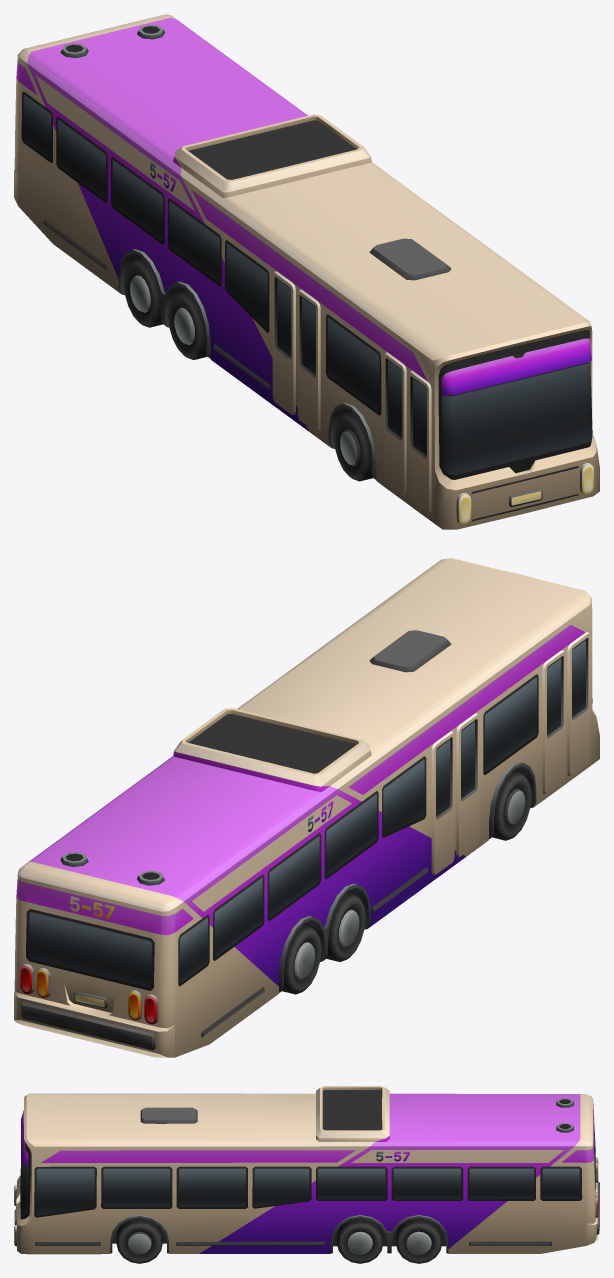
The model's file is Car_17C.fbx.
The picture shows the model from 3 angles, top to bottom: view 1: azimuth 30°, elevation 25°; view 2: azimuth 150°, elevation 25°; view 3: azimuth 270°, elevation 25°; orthographic projection. The views are drawn at different scales.
Parts seen in each view (by area): view 1: Car_17C, Wheel_17C_R.R, Wheel_17C_M.R, Wheel_17C_F.R; view 2: Car_17C, Wheel_17C_M.R, Wheel_17C_F.R, Wheel_17C_R.R; view 3: Car_17C, Wheel_17C_M.L, Wheel_17C_R.L, Wheel_17C_F.L.
Part boxes in pixels (<box>): Car_17C: <box>14,14,599,529</box>; Wheel_17C_R.R: <box>123,258,162,327</box>; Wheel_17C_M.R: <box>168,290,207,359</box>; Wheel_17C_F.R: <box>333,411,373,481</box>; Car_17C: <box>14,558,599,1057</box>; Wheel_17C_M.R: <box>326,892,365,961</box>; Wheel_17C_F.R: <box>492,771,531,840</box>; Wheel_17C_R.R: <box>282,924,321,994</box>; Car_17C: <box>14,1086,599,1254</box>; Wheel_17C_M.L: <box>337,1218,383,1263</box>; Wheel_17C_R.L: <box>396,1218,442,1263</box>; Wheel_17C_F.L: <box>116,1218,162,1263</box>.
Bounding box in the file's own units: 293 × 324 × 1330.
